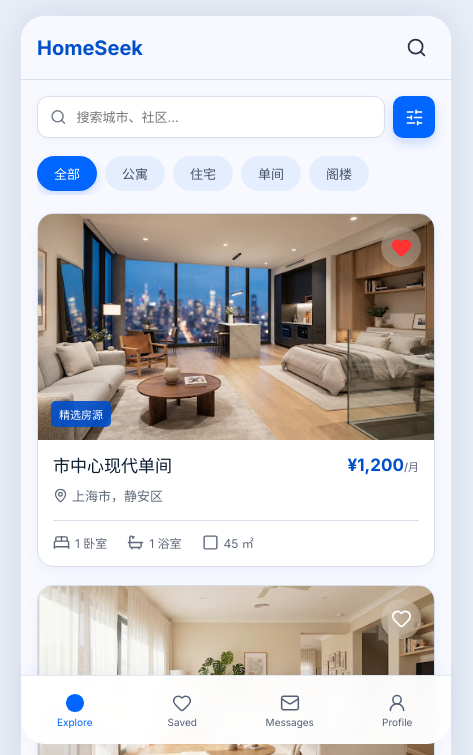
Test: HomeSeek H5 › opens the property detail and returns to explore
Click the heading "市中心现代单间": click(112, 466) [53,455,172,478]
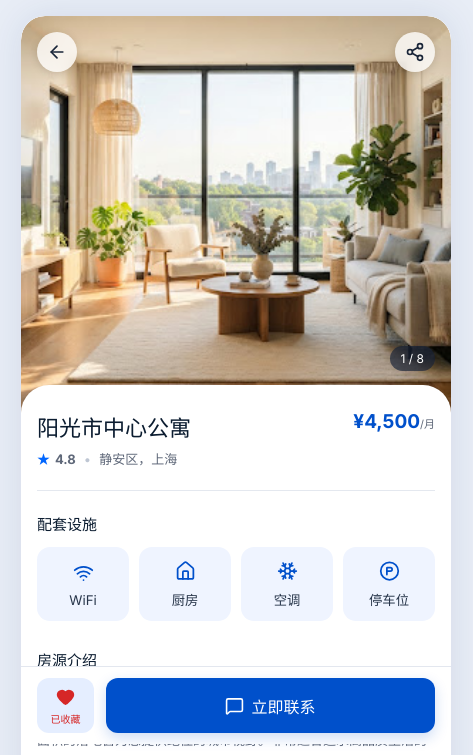
Now the heading "阳光市中心公寓" is shown, box [37,410,191,442]
Now the button "立即联系" is shown, box [106,678,435,733]
Click the button with class "left": click(57, 52) [37,32,77,72]
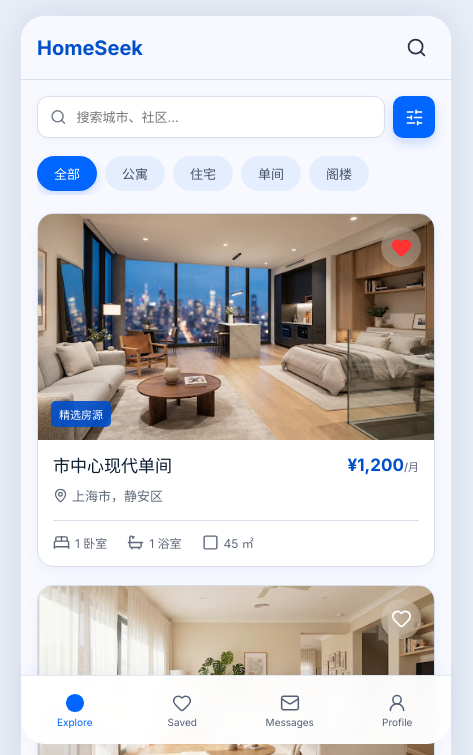
Now the heading "市中心现代单间" is shown, box [53,455,172,478]
